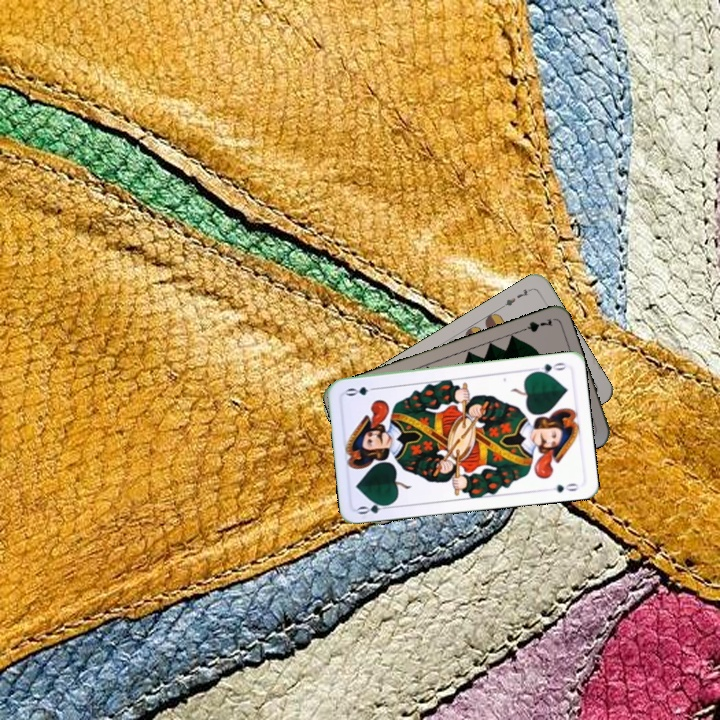E7: (498, 284, 534, 310)
G7: (515, 314, 555, 335)
GO: (354, 497, 395, 517), (528, 358, 569, 377)
